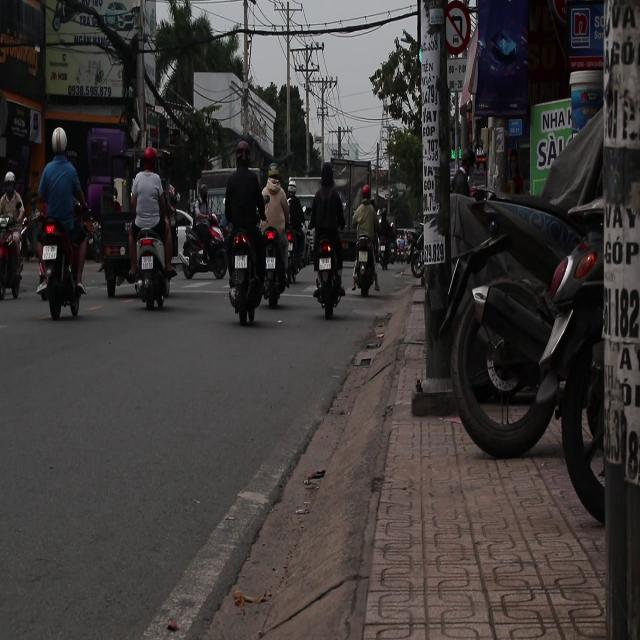motorbike: (37, 217, 89, 319), (225, 225, 266, 326), (130, 222, 174, 308), (350, 225, 390, 318), (256, 221, 295, 307), (180, 215, 228, 281), (312, 236, 345, 319), (0, 205, 28, 302)
